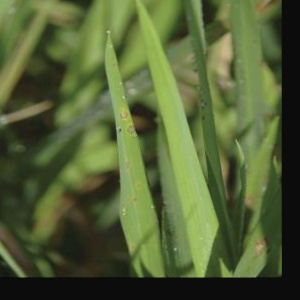Brown_Spot: (122, 120, 148, 146), (108, 98, 134, 124)
